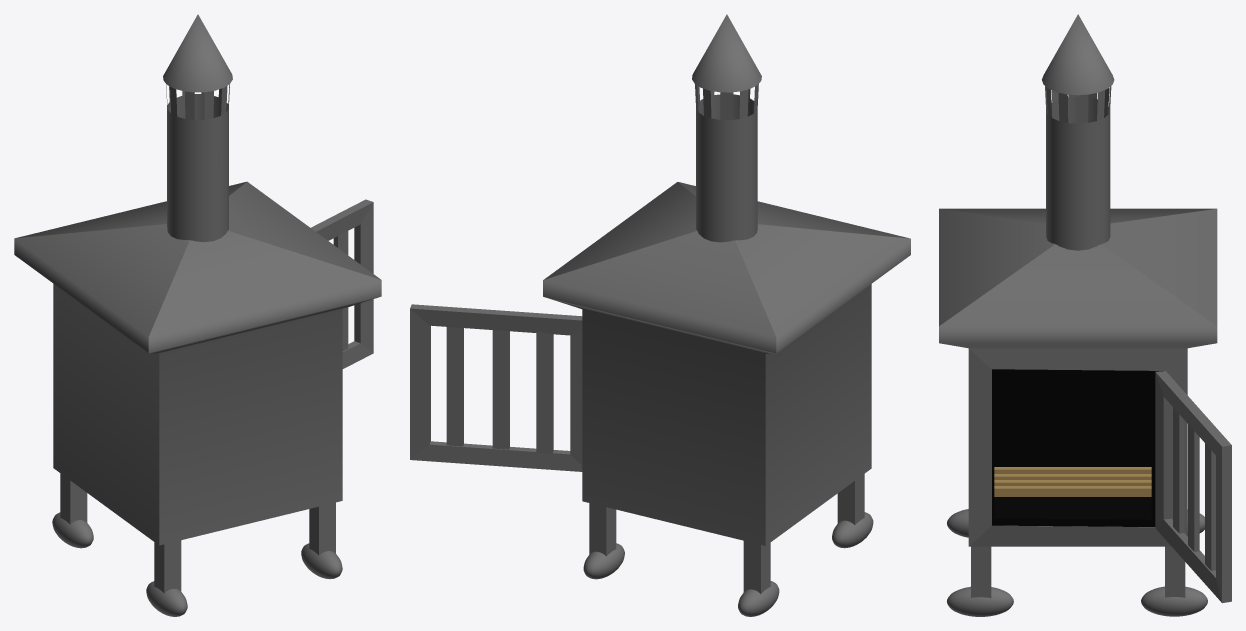
File: FourneauUnity.fbx
The picture shows the model from 3 angles, left to right: view 1: azimuth 30°, elevation 25°; view 2: azimuth 150°, elevation 25°; view 3: azimuth 270°, elevation 25°; orthographic projection. The views are drawn at different scales.
Parts seen in each view (by area): view 1: pCube1, pCylinder1, pCone1, pCube10, pCube5, pCube11, pSphere1, pSphere2, pSphere3, pCube4; view 2: pCube1, pCylinder1, pCone1, pCube2, pCube3, pCube4, pCube11, pCube12, pCube10, pSphere2, pSphere4, pSphere3; view 3: pCube1, pCube13, pCylinder1, pCube14, pCone1, pCube9, pSphere4, pCube3, pSphere1, pCube2, pCube4, pCube6 (+7 smaller).
Boxes of the visible parts, x1,y1,x2,y2 form: pCube1: (14,181,381,545); pCylinder1: (166,84,229,242); pCone1: (163,14,232,92); pCube10: (154,540,181,593); pCube5: (309,502,335,555); pCube11: (60,473,87,524); pSphere1: (301,543,342,579); pSphere2: (146,581,187,616); pSphere3: (52,512,93,548); pCube4: (333,231,348,350); pCube1: (410,182,910,545); pCylinder1: (695,84,758,242); pCone1: (692,14,761,92); pCube2: (536,331,553,453); pCube3: (492,330,509,449); pCube4: (446,327,463,446); pCube11: (743,541,770,593); pCube12: (589,503,616,556); pCube10: (837,474,864,524); pSphere2: (832,512,873,548); pSphere4: (583,543,624,579); pSphere3: (738,581,779,616); pCube1: (939,208,1231,603); pCube13: (994,369,1151,466); pCylinder1: (1045,86,1111,250); pCube14: (992,497,1155,526); pCone1: (1042,14,1114,95); pCube9: (994,486,1151,496); pSphere4: (1141,586,1207,616); pCube3: (1188,424,1199,551); pSphere1: (947,586,1013,616); pCube2: (1173,407,1184,533); pCube4: (1205,443,1215,570); pCube6: (994,467,1151,473).
Bounding box in the file's own units: 5.56 × 7.99 × 3.77.
